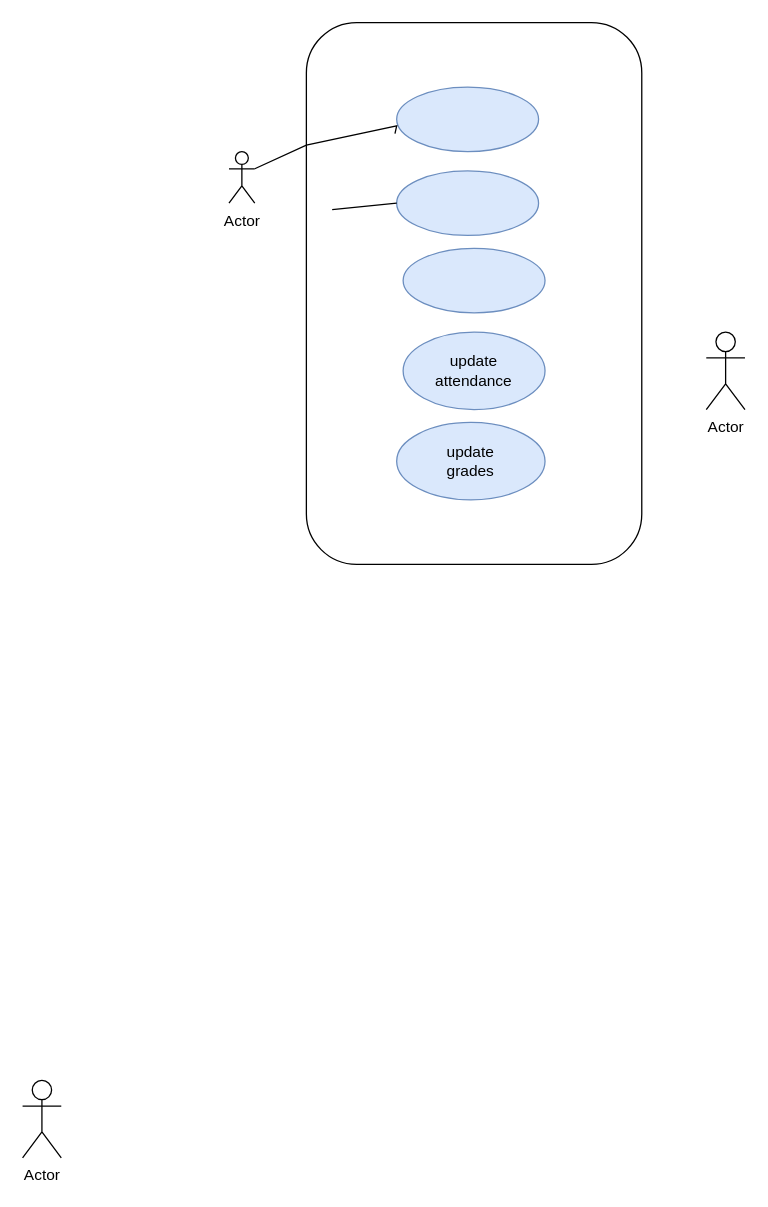
Some shapes in this 768 by 1207 pixel diagram are drawn without their labels. The centre of each missing label's shape, as x and y in pixels:
check attendance: [467,119]
check grades: [473,280]
check timetable: [467,202]
